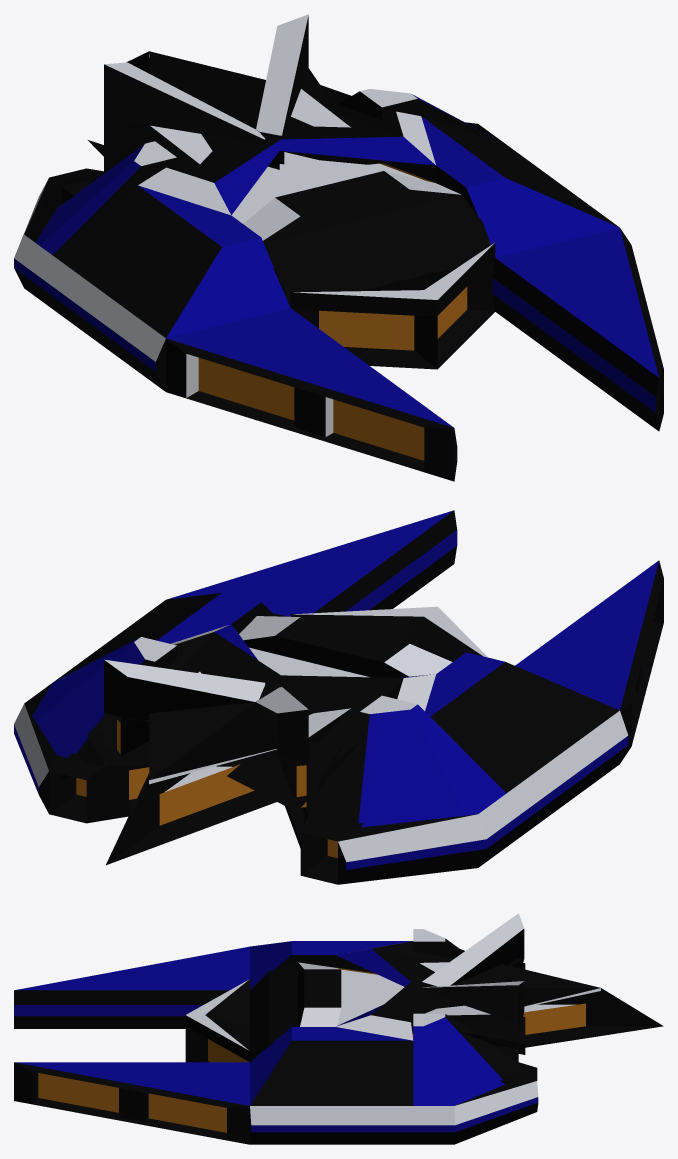
File: Spaceship2.fbx
3 renders of one model, top to bottom at view 1: azimuth 30°, elevation 25°; view 2: azimuth 150°, elevation 25°; view 3: azimuth 270°, elevation 25°, orthographic. The views are drawn at different scales.
Visible parts, largest first — view 1: Cube; view 2: Cube; view 3: Cube.
Boxes of the visible parts, left/top/right/bottom form: Cube: left=14, top=14, right=663, bottom=481; Cube: left=14, top=510, right=663, bottom=884; Cube: left=14, top=913, right=663, bottom=1144.
Bounding box in the file's own units: 923 × 300 × 1527.
